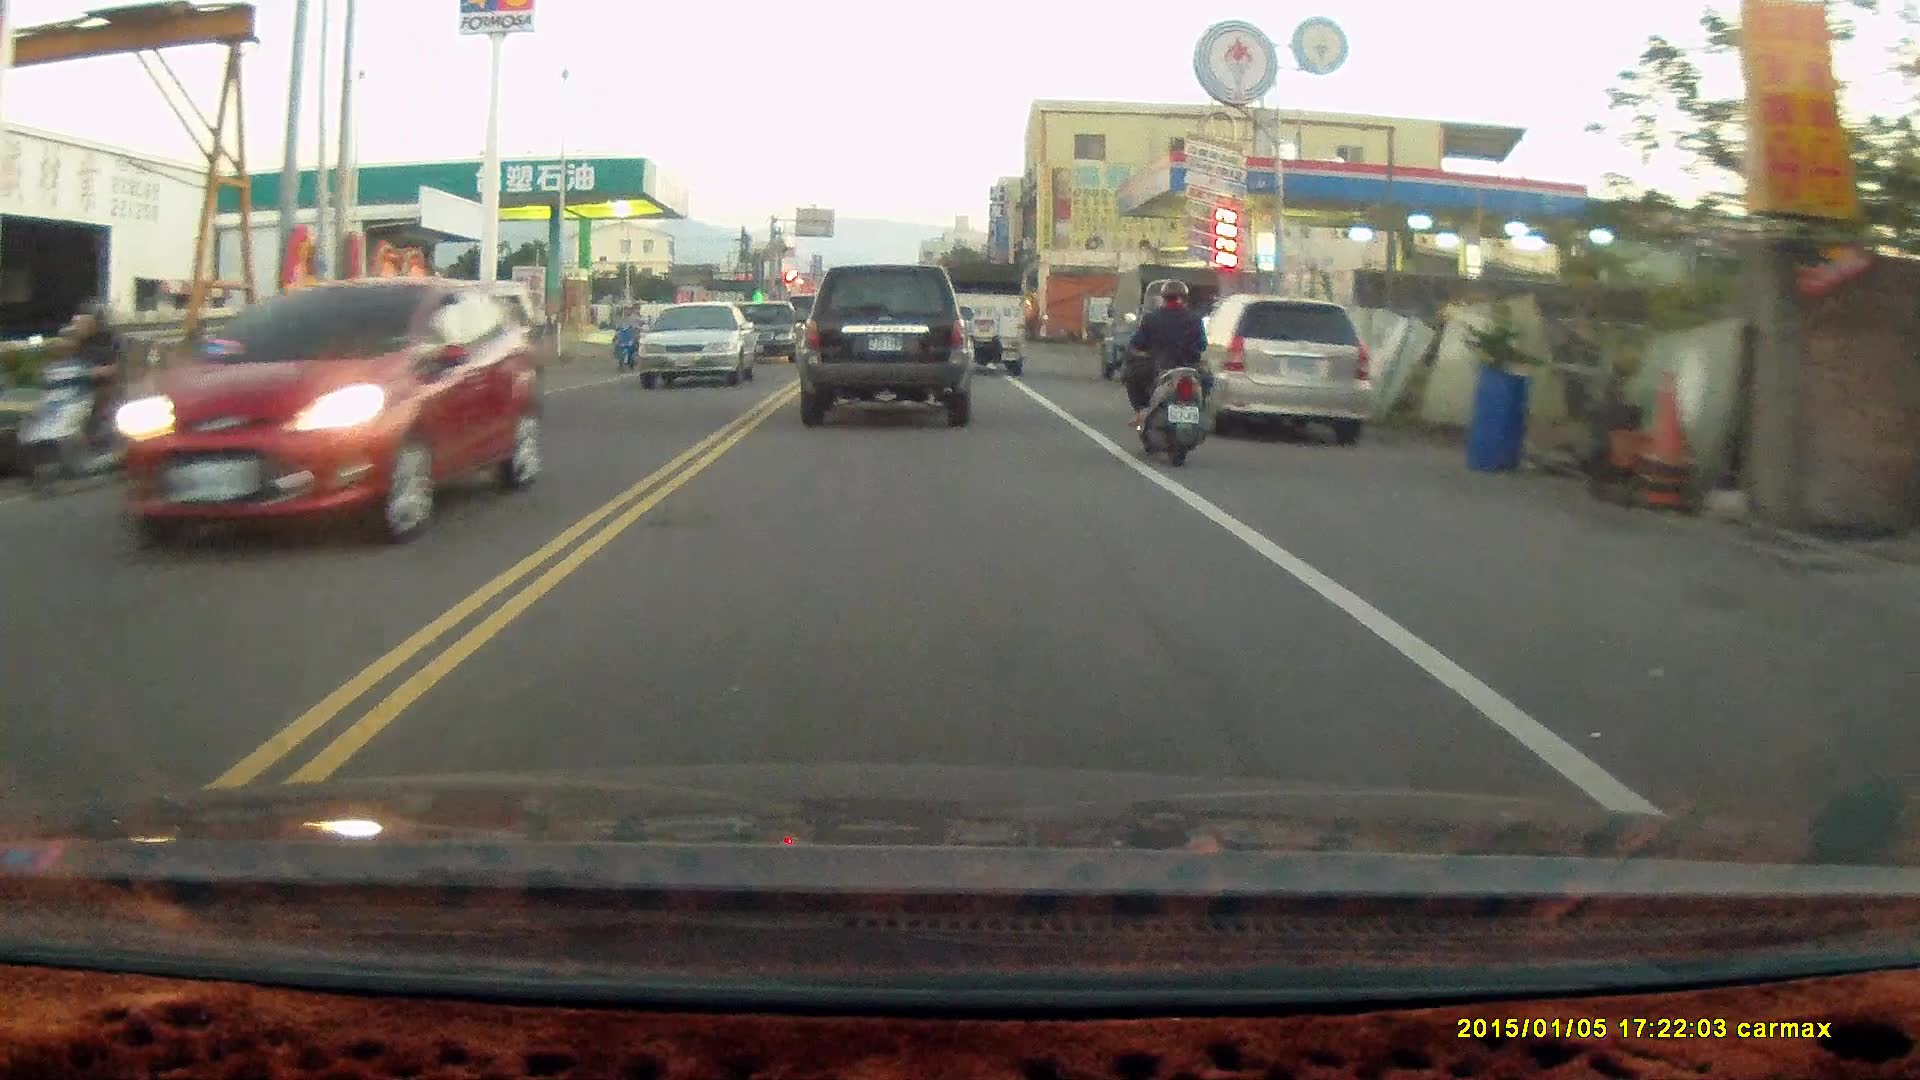rider: (9, 297, 175, 500), (1115, 273, 1212, 460), (607, 299, 647, 371)
vehicle: (143, 275, 539, 552), (307, 278, 532, 445), (1179, 292, 1376, 447), (794, 262, 970, 427), (1102, 263, 1224, 379), (636, 302, 761, 389), (938, 256, 1025, 374), (729, 301, 807, 362)
